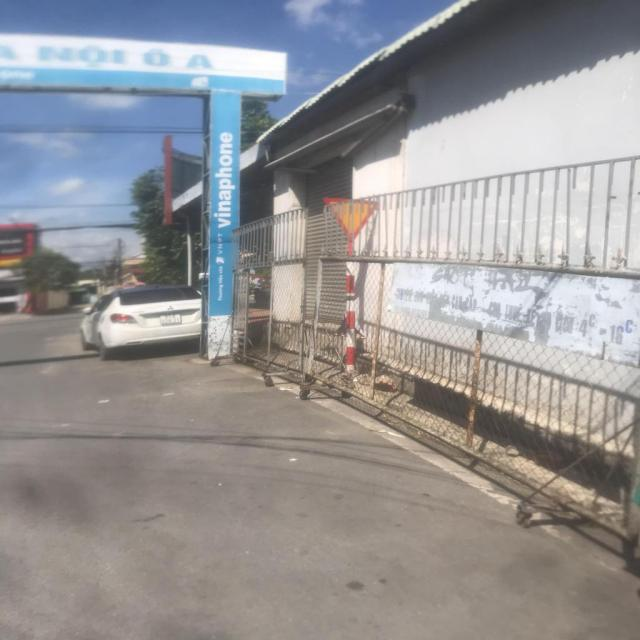giao_nhau_voi_duong_uu_tien: (322, 198, 379, 242)
